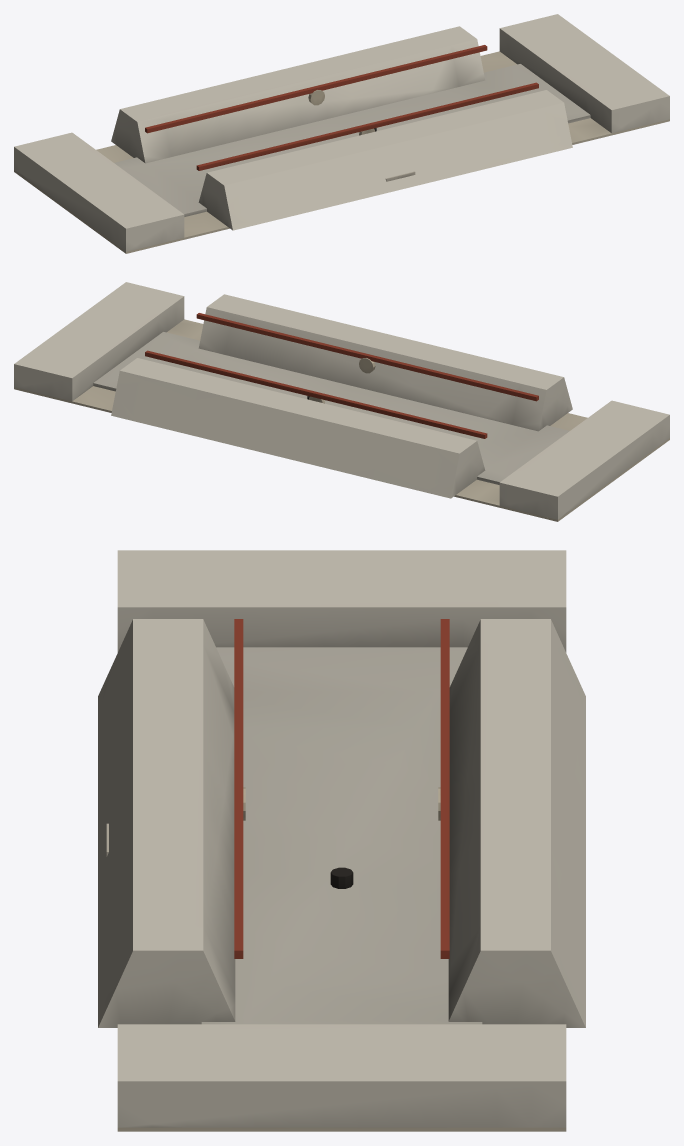
The model's file is ballcourt.glb.
3 renders of one model, top to bottom at view 1: azimuth 30°, elevation 25°; view 2: azimuth 150°, elevation 25°; view 3: azimuth 270°, elevation 25°, orthographic. The views are drawn at different scales.
Visible parts, largest first — view 1: p1_court, p0_floor; view 2: p1_court, p0_floor; view 3: p1_court, p0_floor.
Boxes of the visible parts, <box> form: p1_court: <box>14,14,669,251</box>; p0_floor: <box>14,51,669,253</box>; p1_court: <box>14,282,669,519</box>; p0_floor: <box>14,319,669,521</box>; p1_court: <box>98,550,585,1127</box>; p0_floor: <box>117,1127,566,1131</box>.
Bounding box in the file's own units: 56 × 4 × 21.75.
